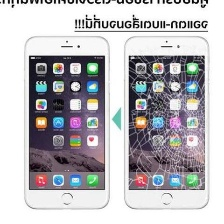phone: (20, 32, 113, 212), (120, 33, 211, 213)
